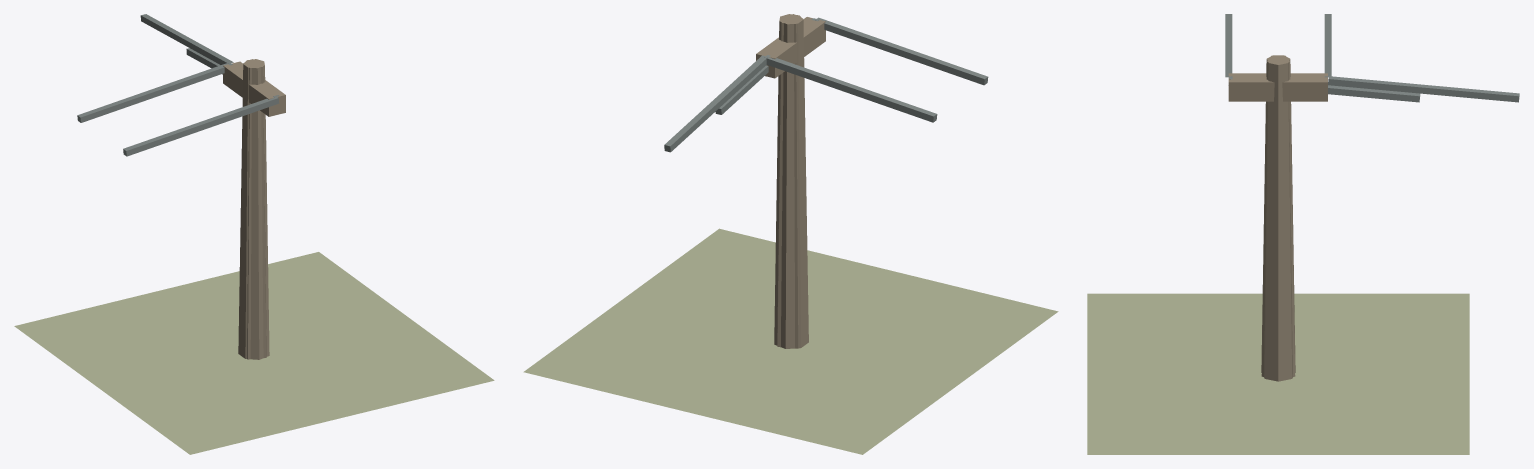
3 views of the same model, side by side, from view 1: azimuth 30°, elevation 25°; view 2: azimuth 150°, elevation 25°; view 3: azimuth 270°, elevation 25° (orthographic). The views are drawn at different scales.
Parts seen in each view (by area): view 1: Near, Far; view 2: Near, Far; view 3: Near, Far.
Boxes of the visible parts, x1=… form: Near: x1=14, y1=14, x2=494, y2=454; Far: x1=243, y1=59, x2=266, y2=359; Near: x1=523, y1=14, x2=1058, y2=454; Far: x1=777, y1=14, x2=802, y2=348; Near: x1=1087, y1=14, x2=1519, y2=454; Far: x1=1261, y1=55, x2=1295, y2=376.
Bounding box in the file's own units: 1 × 0.91 × 1.13.
